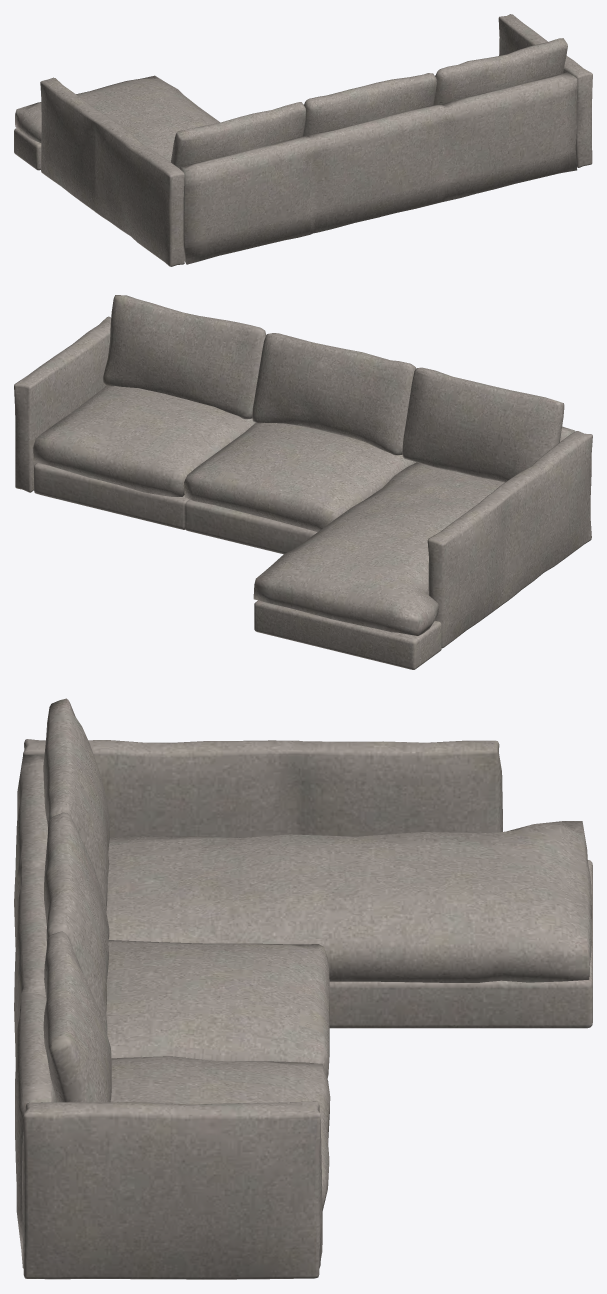
The picture shows the model from 3 angles, top to bottom: view 1: azimuth 30°, elevation 25°; view 2: azimuth 150°, elevation 25°; view 3: azimuth 270°, elevation 25°; orthographic projection. The views are drawn at different scales.
Size of the model in its own units: 3.07 by 0.8615 by 1.97.
1 material, 1 textured.
